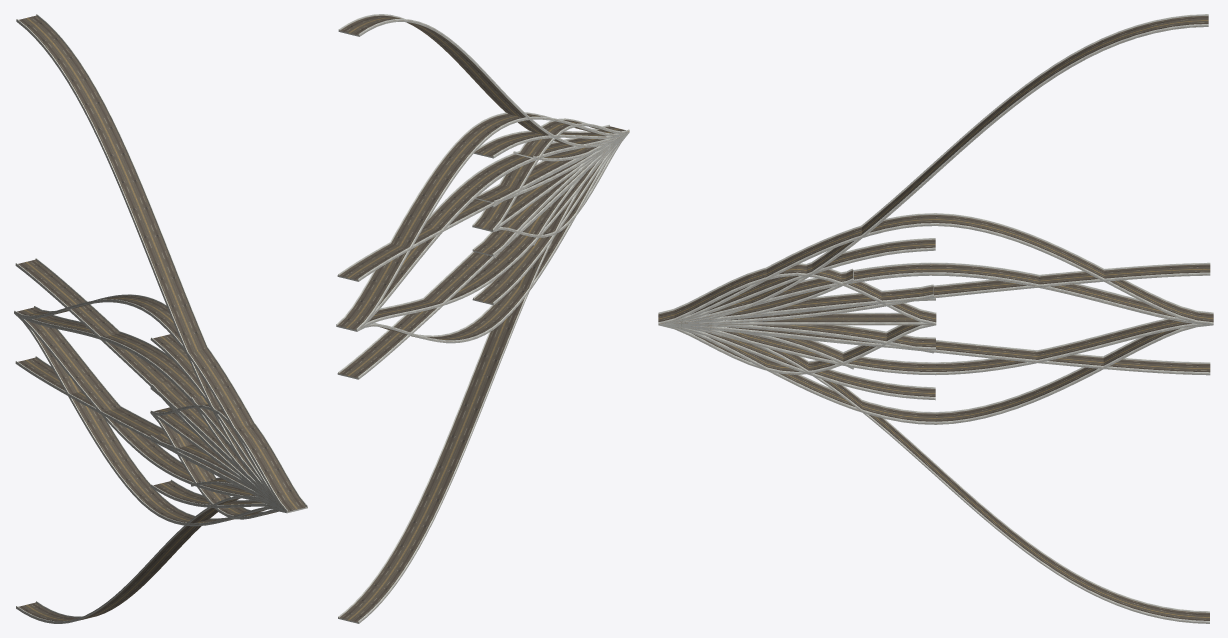
Rendered from trackStraight.fbx.
3 views of the same model, side by side, from view 1: azimuth 30°, elevation 25°; view 2: azimuth 150°, elevation 25°; view 3: azimuth 270°, elevation 25° (orthographic).
Visible parts, largest first — view 1: track_Sup120long.001, track_Spbdown20long.001, track_Spbdown40long.001, track_Spbup40long.001, track_Sup20long.001, track_Spbup20long.001, track_Sdown120long.001, track_Spbup20.001, track_Sdown20long.001, track_Spbdown20.001, track_Sup30.001, track_Sdown30.001 (+5 smaller); view 2: track_Sdown120long.001, track_Spbup40long.001, track_Sdown20long.001, track_Spbup20long.001, track_Sup120long.001, track_Spbdown40long.001, track_Spbdown20long.001, track_Sup20long.001, track_Spbup20.001, track_Sdown30.001, track_Sfall900.001, track_Sup30.001 (+6 smaller); view 3: track_Spbup40long.001, track_Sup120long.001, track_Sdown120long.001, track_Spbdown40long.001, track_Spbup20long.001, track_Spbdown20long.001, track_Sdown20long.001, track_Sup20long.001, track_Spbup20.001, track_Sdown30.001, track_Sup30.001, track_Sfall900.001 (+6 smaller).
Part boxes in pixels (bbox=[...]): track_Sup120long.001: bbox=[16, 14, 279, 506]; track_Spbdown20long.001: bbox=[14, 306, 277, 507]; track_Spbdown40long.001: bbox=[15, 306, 276, 526]; track_Spbup40long.001: bbox=[14, 294, 286, 512]; track_Sup20long.001: bbox=[15, 258, 272, 500]; track_Spbup20long.001: bbox=[21, 309, 307, 511]; track_Sdown120long.001: bbox=[16, 494, 269, 623]; track_Spbup20.001: bbox=[150, 404, 305, 511]; track_Sdown20long.001: bbox=[15, 356, 278, 507]; track_Spbdown20.001: bbox=[151, 407, 285, 519]; track_Sup30.001: bbox=[150, 334, 276, 502]; track_Sdown30.001: bbox=[150, 479, 285, 512]; track_Sdown120long.001: bbox=[338, 148, 611, 623]; track_Spbup40long.001: bbox=[337, 112, 629, 331]; track_Sdown20long.001: bbox=[337, 136, 624, 379]; track_Spbup20long.001: bbox=[343, 124, 628, 325]; track_Sup120long.001: bbox=[338, 14, 623, 147]; track_Spbdown40long.001: bbox=[336, 143, 619, 343]; track_Spbdown20long.001: bbox=[337, 141, 619, 329]; track_Sup20long.001: bbox=[337, 141, 614, 281]; track_Spbup20.001: bbox=[472, 118, 628, 232]; track_Sdown30.001: bbox=[472, 134, 627, 305]; track_Sfall900.001: bbox=[483, 136, 624, 258]; track_Sup30.001: bbox=[474, 130, 620, 158]; track_Spbup40long.001: bbox=[658, 213, 1213, 325]; track_Sup120long.001: bbox=[670, 14, 1208, 323]; track_Sdown120long.001: bbox=[695, 328, 1209, 623]; track_Spbdown40long.001: bbox=[678, 313, 1213, 424]; track_Spbup20long.001: bbox=[658, 262, 1201, 324]; track_Spbdown20long.001: bbox=[676, 312, 1213, 375]; track_Sdown20long.001: bbox=[667, 325, 1210, 375]; track_Sup20long.001: bbox=[687, 262, 1210, 323]; track_Spbup20.001: bbox=[659, 263, 935, 323]; track_Sdown30.001: bbox=[661, 325, 935, 400]; track_Sup30.001: bbox=[678, 238, 935, 322]; track_Sfall900.001: bbox=[659, 324, 933, 353].
Size of the model in its own units: 904 by 24107 by 20224.
